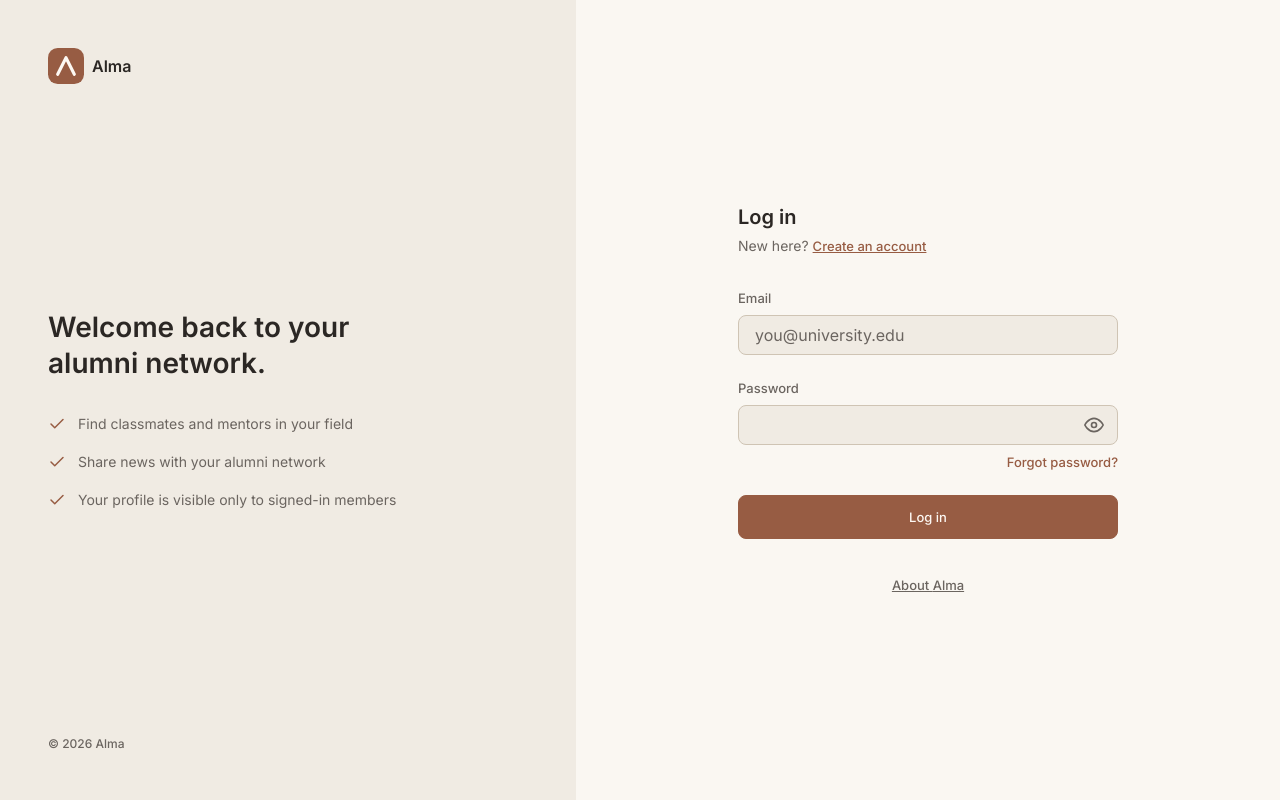
Test case: LoginPage › says so when the browser will not store the sign-in, and stays on the form
In the field labelled "Email": (928, 335) [738,315,1118,355], type "amina@example.com"
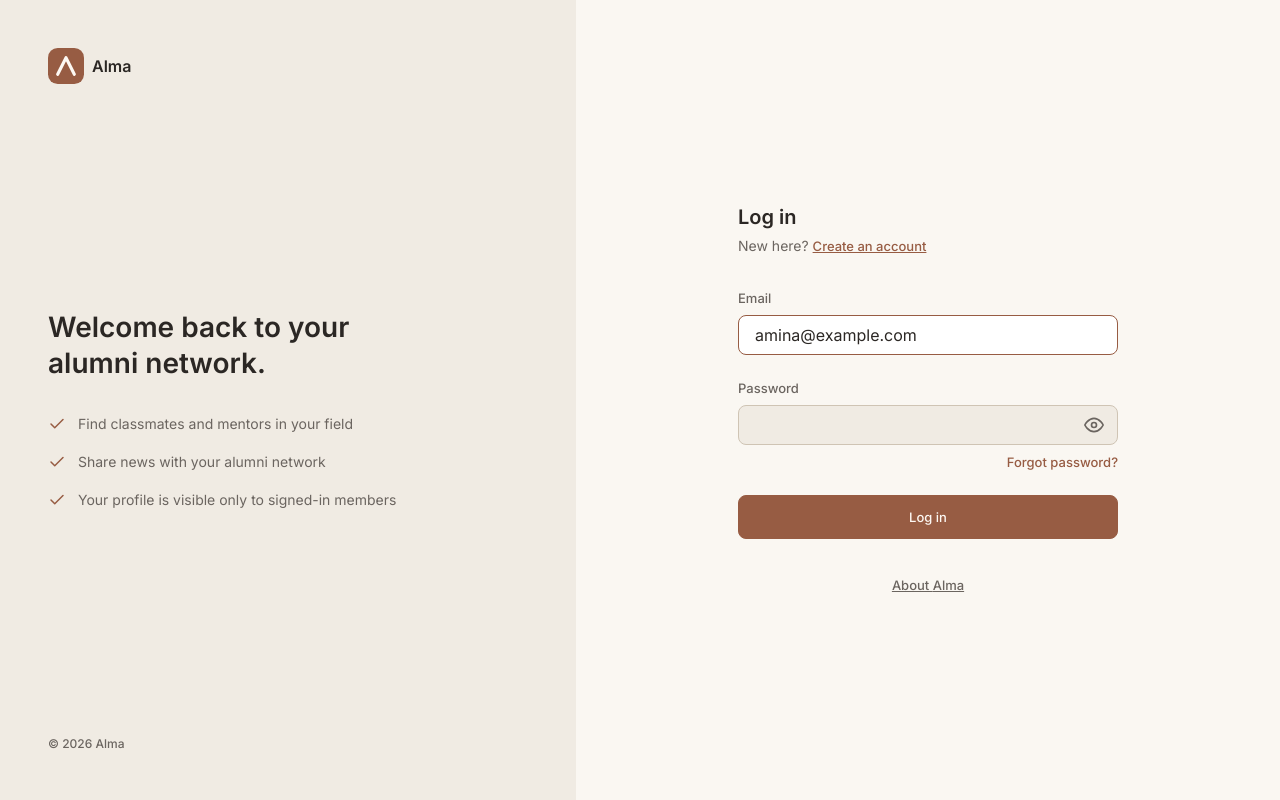
In the password field labelled "Password": (928, 425) [738,405,1118,445], type "correct horse"
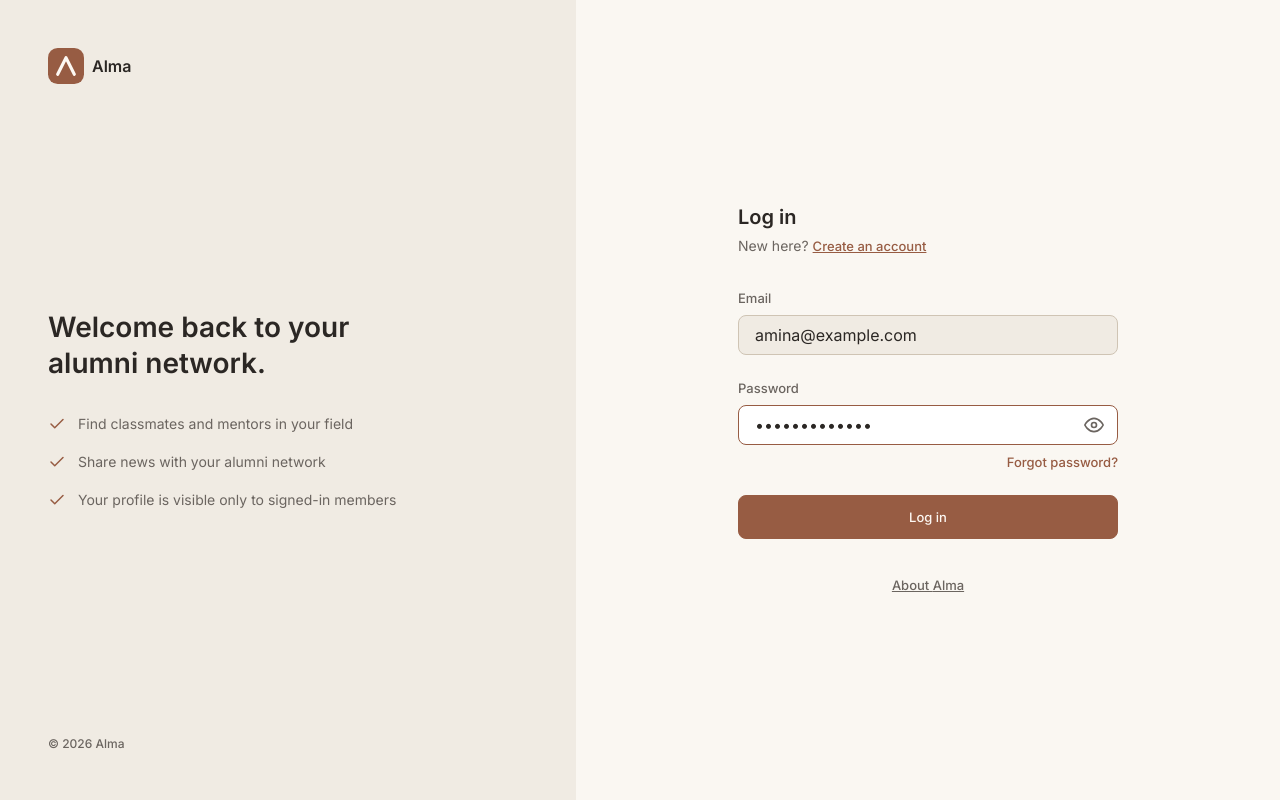
Click the button "Log in": (928, 517) [738,495,1118,539]
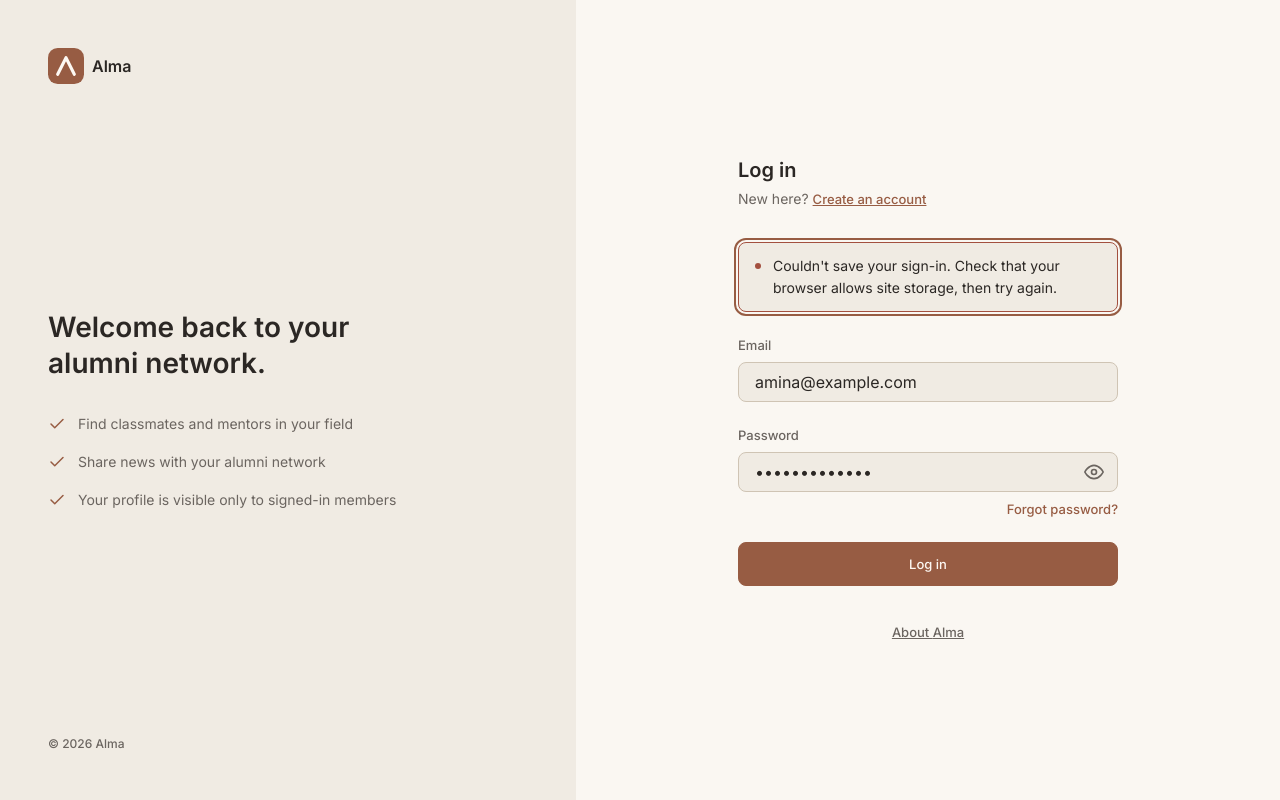
Expected: the button "Log in" is enabled, [738,542,1118,586]
Result: the message shows "Couldn't save your sign-in. Check that your browser allows site storage, then try again." at [773,257,1060,296]
